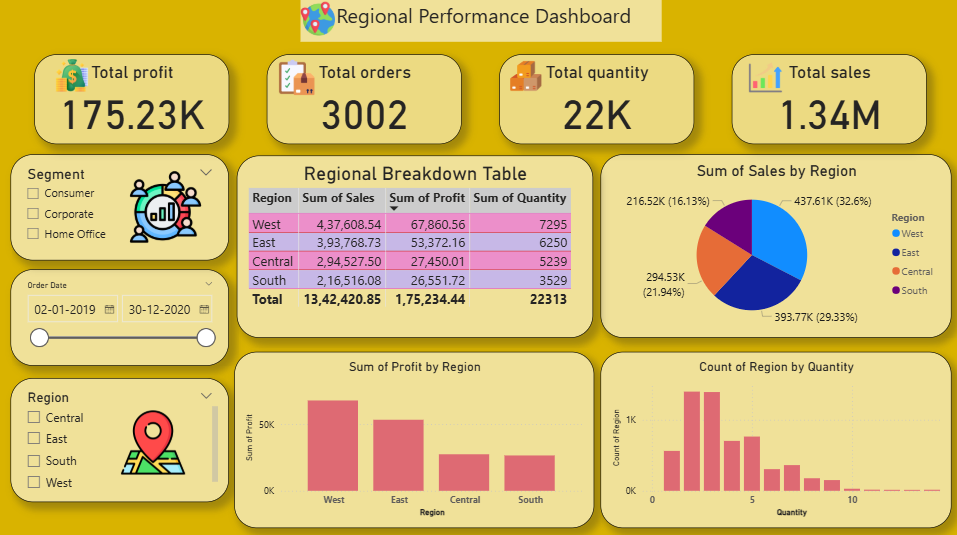

Layout of this report page (visuals, bound fields, positions):
{"tool":"powerbi","page":{"name":"Page 3","canvas":[1280,720],"ordinal":1},"visuals":[{"type":"slicer","fields":{"Values":["Orders.Order Date"]},"box":[17.1,361.4,291.4,128.6],"z":0},{"type":"slicer","fields":{"Values":["Orders.Region"]},"box":[17.1,507.1,291.4,165.7],"z":1000},{"type":"slicer","fields":{"Values":["Orders.Segment"]},"box":[17.1,208.6,291.4,141.4],"z":2000},{"type":"pieChart","fields":{"Category":["Orders.Region"],"Y":["Sum(Orders.Sales)"]},"box":[803.3,208.3,468.3,245],"z":3000},{"type":"card","title":"Total sales","fields":{"Values":["Orders.Total Sales"]},"box":[978.6,75.7,260,120],"z":4000},{"type":"card","title":"Total quantity","fields":{"Values":["Orders.Total Quanity"]},"box":[668.6,75.7,260,120],"z":5000},{"type":"card","title":"Total profit","fields":{"Values":["Orders.total profit"]},"box":[48.6,75.7,260,120],"z":6000},{"type":"card","title":"Total orders","fields":{"Values":["Orders.Total Orders"]},"box":[358.6,75.7,260,120],"z":7000},{"type":"clusteredColumnChart","fields":{"Category":["Orders.Region"],"Y":["Sum(Orders.Profit)"]},"box":[315,471.7,480,235],"z":8000},{"type":"tableEx","title":"Regional Breakdown Table","fields":{"Values":["Orders.Region","Sum(Orders.Sales)","Sum(Orders.Profit)","Sum(Orders.Quantity)"]},"box":[318.3,210,475,243.3],"z":9000},{"type":"textbox","box":[402.9,0,481.4,58.6],"z":10000},{"type":"image","box":[391.4,0,70,55.7],"z":11000},{"type":"image","box":[67.7,76.9,60,52.9],"z":12000},{"type":"image","box":[369.1,76.9,60,58.6],"z":13000},{"type":"image","box":[673.4,78.3,60,51.4],"z":14000},{"type":"image","box":[993.4,78.3,60,55.7],"z":15000},{"type":"image","box":[167.1,225.7,114.3,107.1],"z":16000},{"type":"image","box":[158.6,545.7,97.1,95.7],"z":17000},{"type":"clusteredColumnChart","fields":{"Category":["Orders.Quantity"],"Y":["CountNonNull(Orders.Region)"]},"box":[803.3,471.7,468.3,235],"z":18000}]}

Visuals, with their boxes in screenshot pixels (x1, y1, x2, y2), scaled from the page's 1280x720 canvas onto the 957x535 screenshot:
slicer - Orders.Order Date: bbox=(13, 269, 231, 364)
slicer - Orders.Region: bbox=(13, 377, 231, 500)
slicer - Orders.Segment: bbox=(13, 155, 231, 260)
pieChart - Orders.Region x Sum(Orders.Sales): bbox=(601, 155, 951, 337)
"Total sales" card: bbox=(732, 56, 926, 145)
"Total quantity" card: bbox=(500, 56, 694, 145)
"Total profit" card: bbox=(36, 56, 231, 145)
"Total orders" card: bbox=(268, 56, 463, 145)
clusteredColumnChart - Orders.Region x Sum(Orders.Profit): bbox=(236, 350, 594, 525)
"Regional Breakdown Table" tableEx: bbox=(238, 156, 593, 337)
textbox: bbox=(301, 0, 661, 44)
image: bbox=(293, 0, 345, 41)
image: bbox=(51, 57, 95, 96)
image: bbox=(276, 57, 321, 101)
image: bbox=(503, 58, 548, 96)
image: bbox=(743, 58, 788, 100)
image: bbox=(125, 168, 210, 247)
image: bbox=(119, 405, 191, 477)
clusteredColumnChart - Orders.Quantity x CountNonNull(Orders.Region): bbox=(601, 350, 951, 525)
